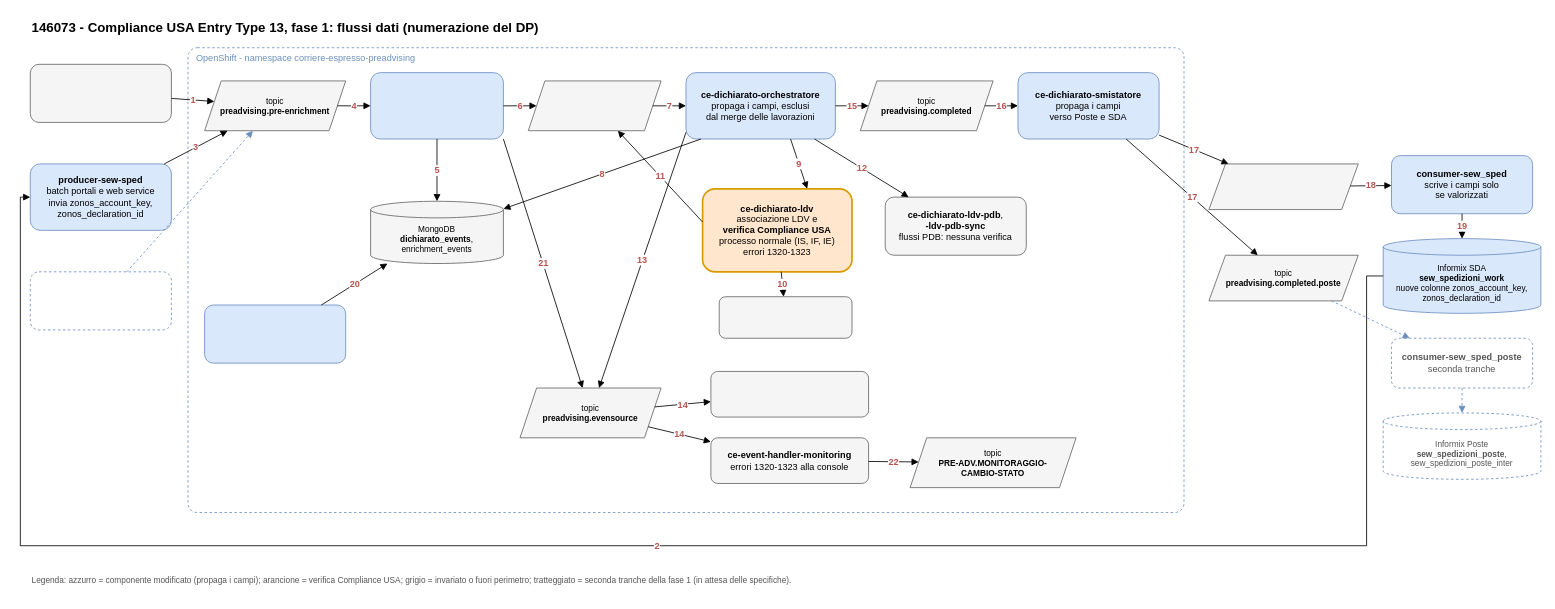
This 1555x609 diagram has some shape labels left out. The centre of each missing label's shape, as x and y in pixels:
ce-dichiarato-adapter PDB, PDW, ILP seconda tranche: point 100,300
ce-dichiarato-bff API di consultazione e risottomissione con i campi: point 275,333
ce-dichiarato-builder canali a file IF, IS, IE: point 100,92
ce-dichiarato-validatore propaga i campi zonos_* nessuna verifica: point 436,105
ce-event-handler-event-store nessuna modifica: point 789,394
ce-rules codice prodotto (invariato): point 785,317
topic preadvising.completed.sda: point 1283,186
topic preadvising.enrichment: point 594,105
